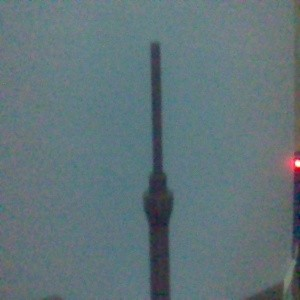obeng: (142, 40, 175, 300)
